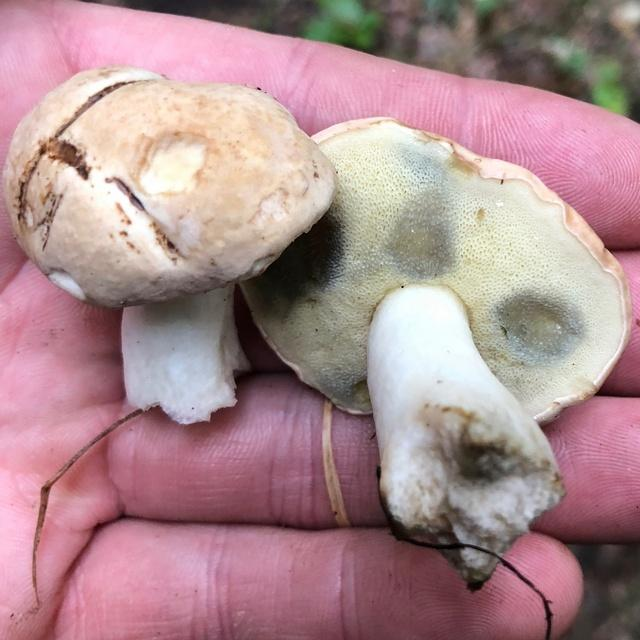edible_mushroom: (238, 114, 632, 590), (2, 63, 338, 425)
